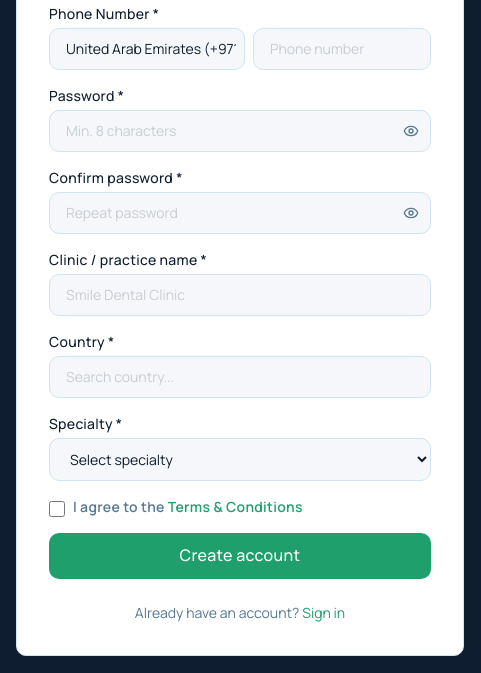
Register page › selecting a country closes dropdown and sets value
The width and height of the screenshot is (481, 673).
(page scrolled)
Focus the field with placeholder "Search country..." at (240, 377), box [49,356,431,398]
(page scrolled)
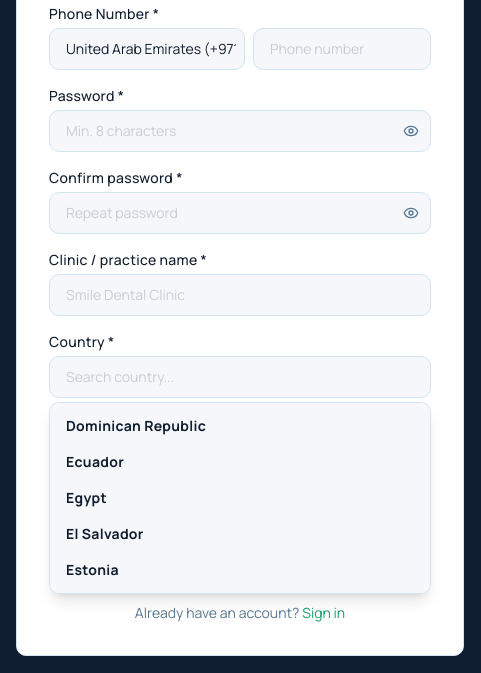
Press the mouse on the button "Egypt" at (86, 498), box [50,480,430,516]
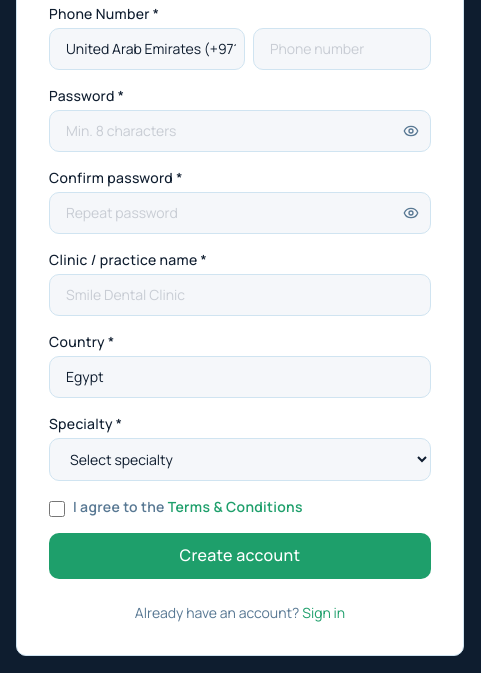
Now the field with placeholder "Search country..." below "Country *" holds "Egypt", box [49,356,431,398]
